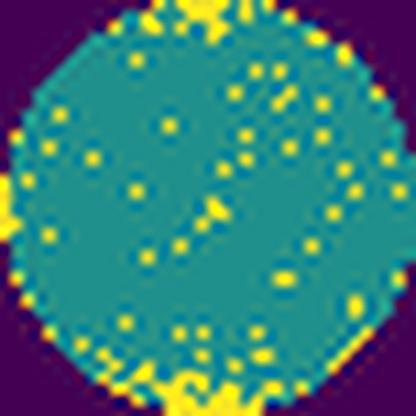Edge-Loc: (130, 359, 293, 416), (142, 0, 270, 38)
